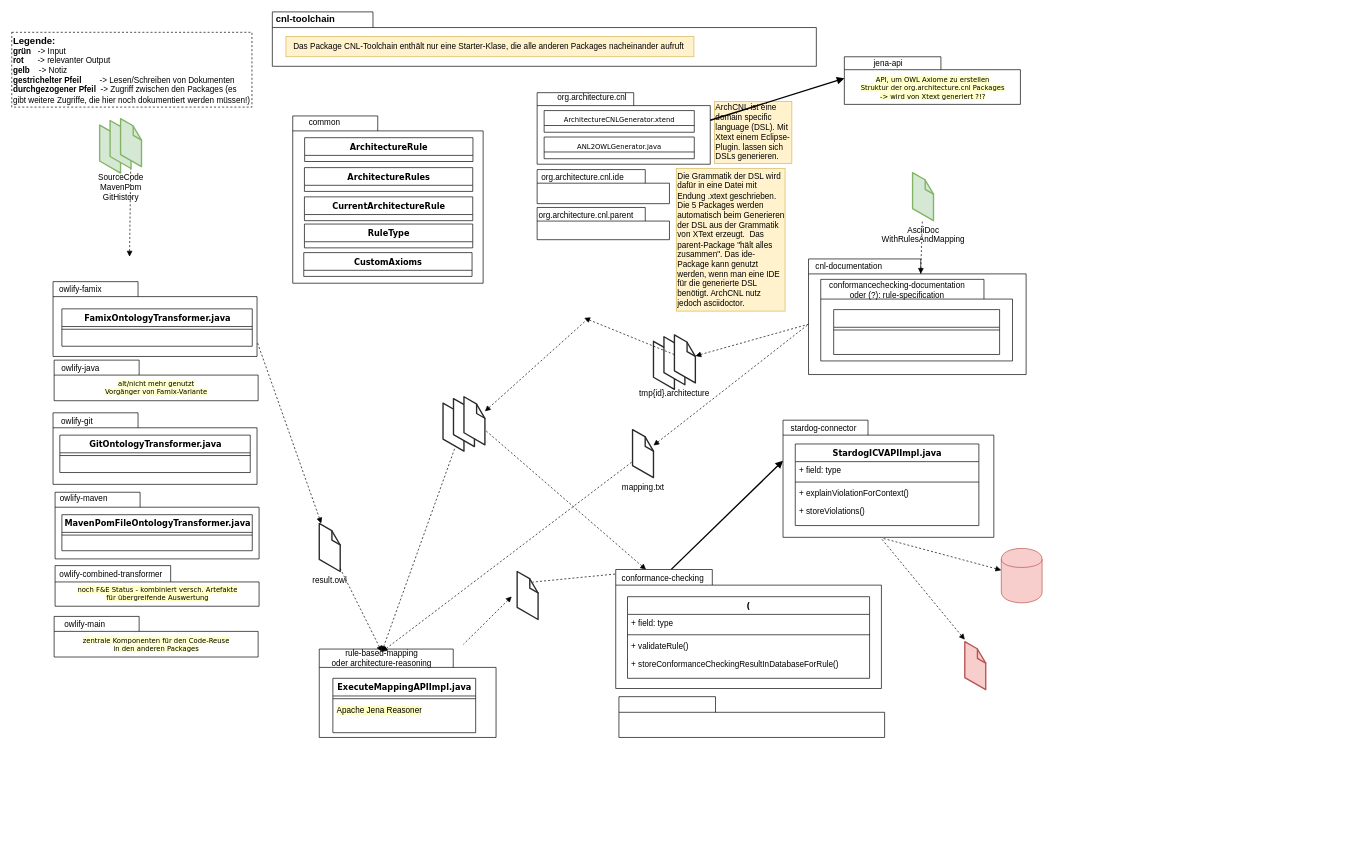
Image size: 1352x860. Some labels were removed from this diagram. Each missing label, with the centre of its shape:
"architecture{id}.owl" belongs at point (463, 422).
"AsciiDocArc42Parser.java" belongs at point (916, 331).
"check.owl" belongs at point (975, 665).
"cnl-verify" belongs at point (751, 716).
"implementedArchitecture.owl" belongs at point (527, 595).
